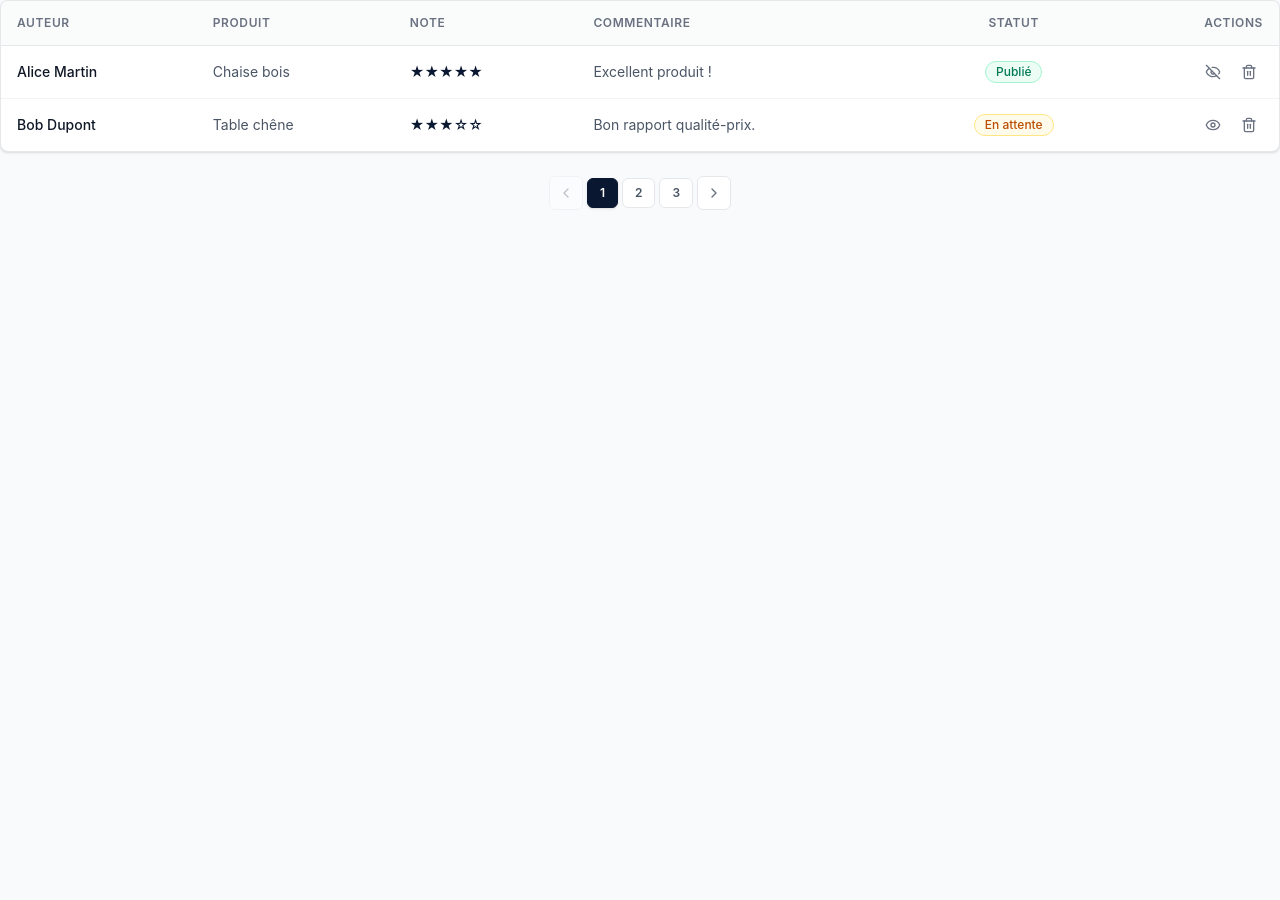
Scenario: AdminReviewTable — suppression › ouvre la modale au clic sur la corbeille
Click the button named "supprimer l'avis de alice martin".
click(1249, 72)  # box [1235,58,1263,86]
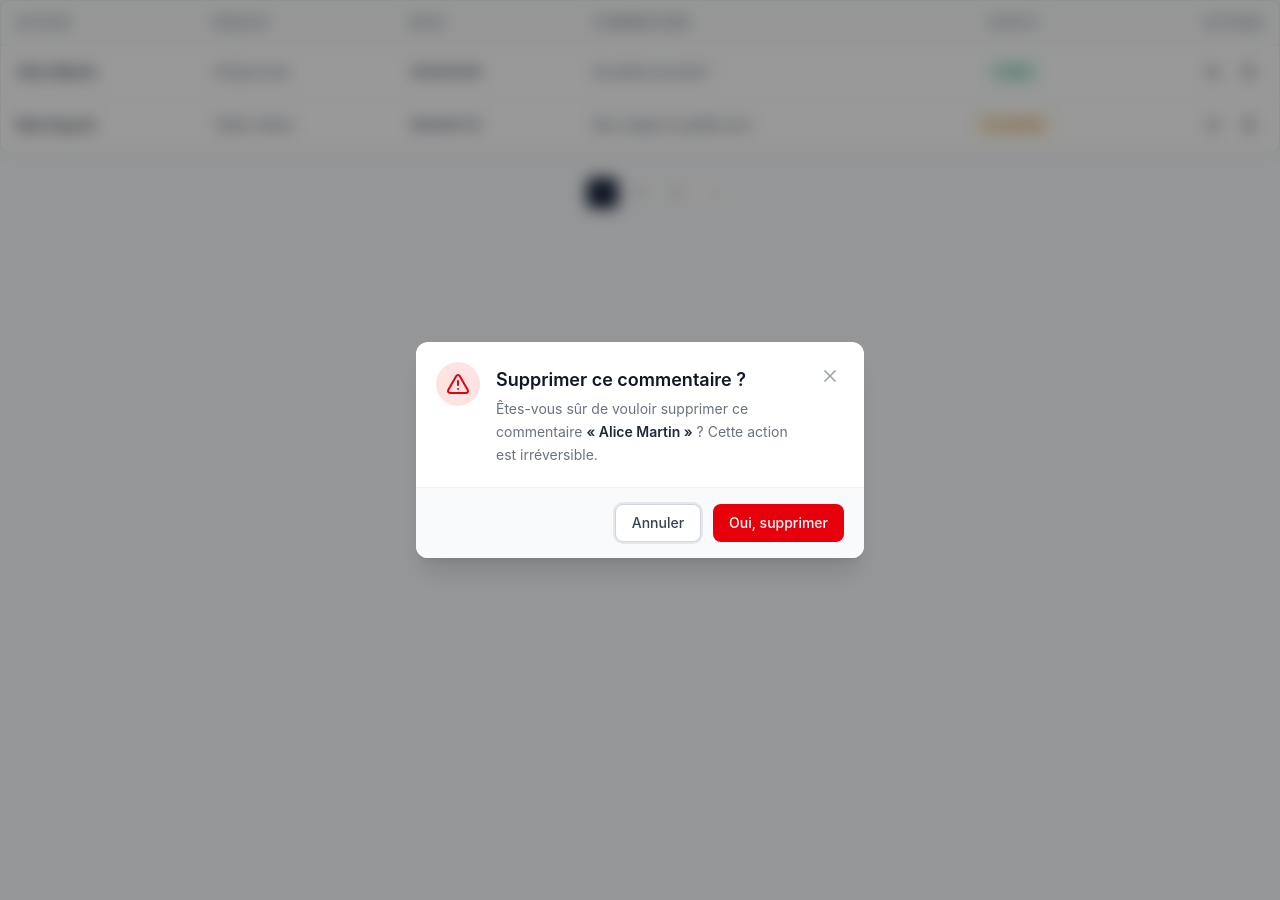
Expected: the dialog is shown, [416,342,864,558]
Expected: the heading "Supprimer ce commentaire ?" is shown, [496,369,746,390]
